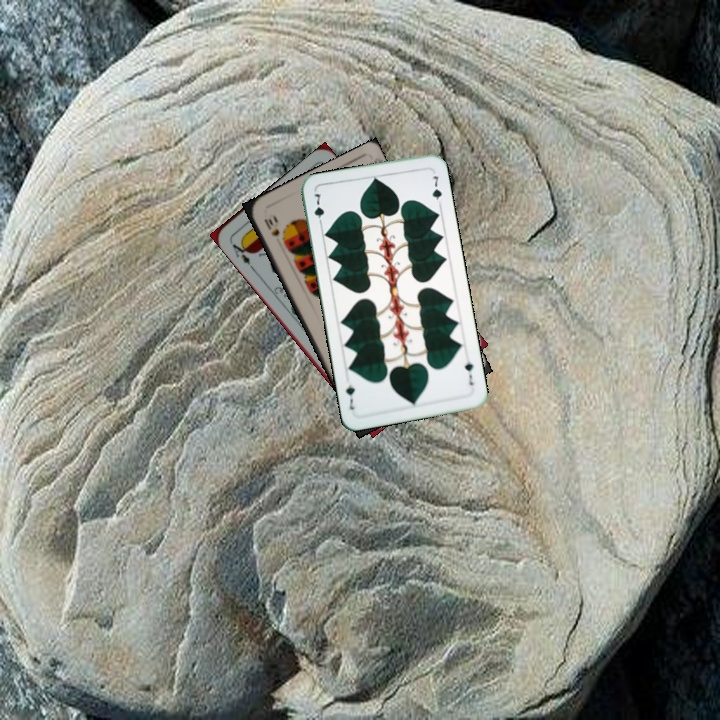EA: (226, 237, 256, 271)
G7: (310, 189, 327, 229), (461, 358, 476, 388)
S10: (260, 214, 282, 239)
